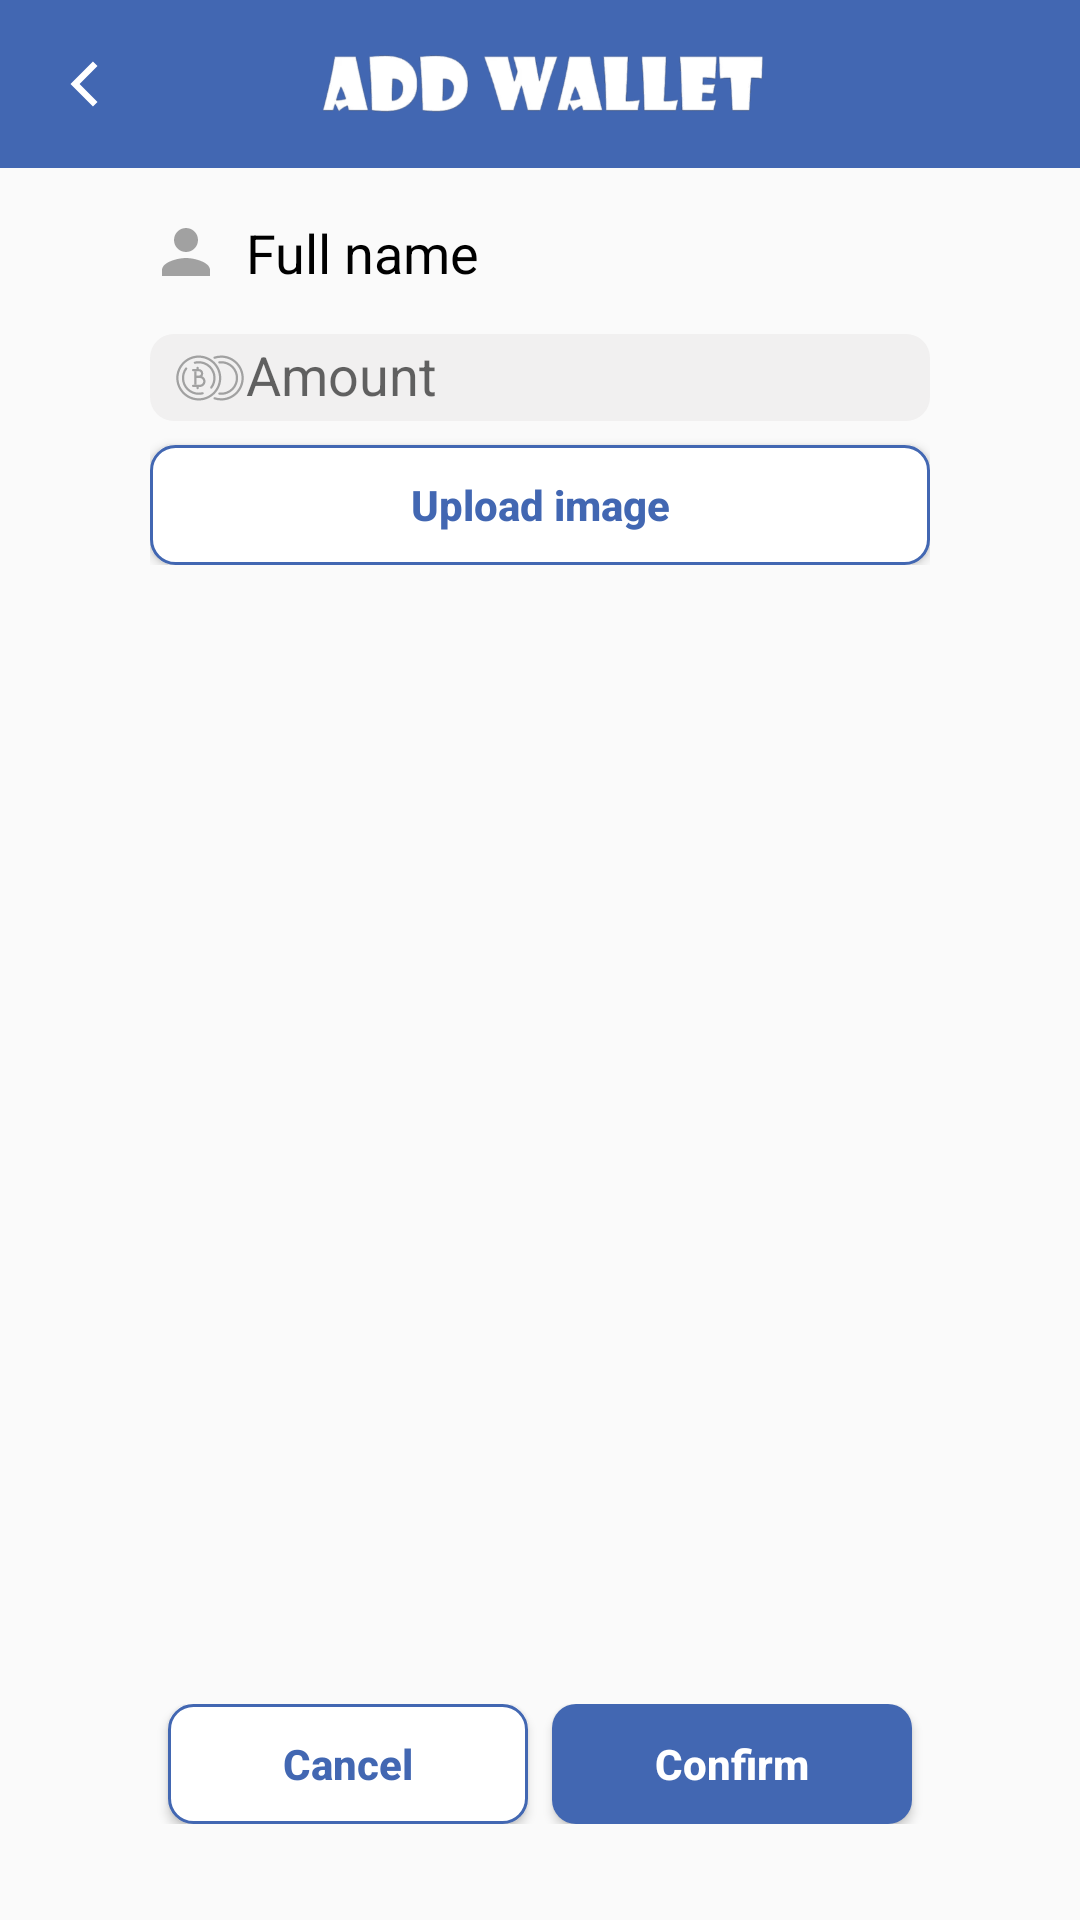

Named icons in this screenshot (1080x1920) and their bounding boxes, [x1, y1, x2, y2]:
person: [162, 228, 210, 276]
